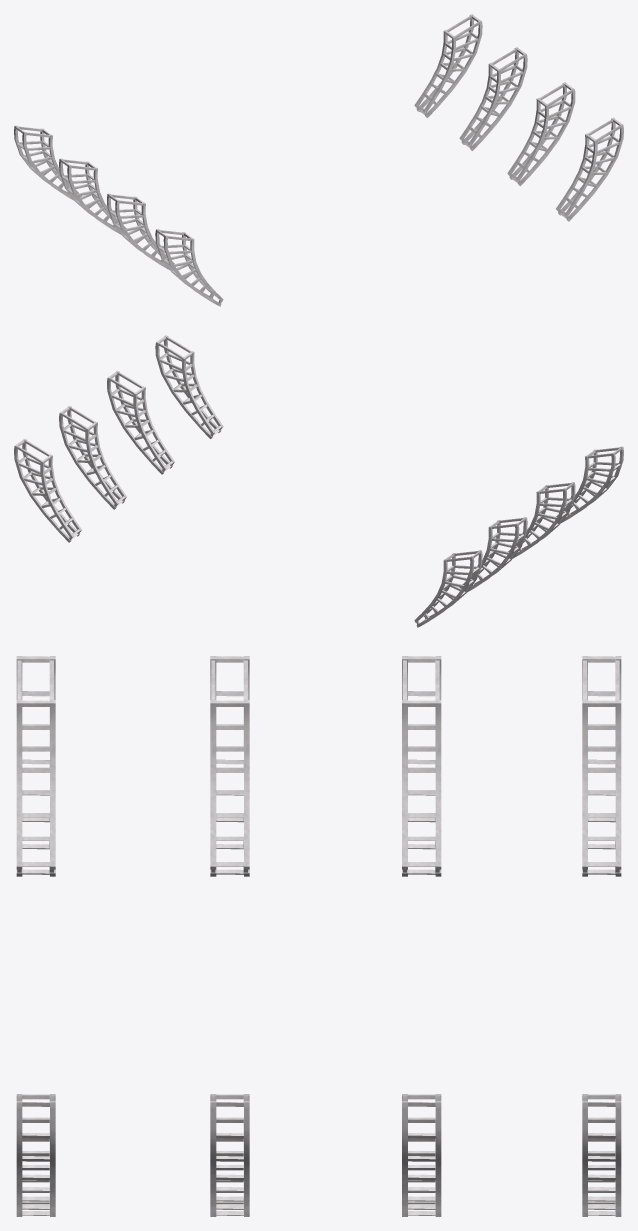
Rendered from Columns.fbx.
The picture shows the model from 3 angles, top to bottom: view 1: azimuth 30°, elevation 25°; view 2: azimuth 150°, elevation 25°; view 3: azimuth 270°, elevation 25°; orthographic projection. The views are drawn at different scales.
Visible parts, largest first — view 1: Airport:Colums; view 2: Airport:Colums; view 3: Airport:Colums.
Boxes of the visible parts, x1,y1,x2,y2 form: Airport:Colums: (14, 14, 623, 306); Airport:Colums: (14, 335, 623, 627); Airport:Colums: (16, 656, 621, 1216).
Size of the model in its own units: 6335 by 1105 by 3617.
Materials: 1 (1 with a texture image).
